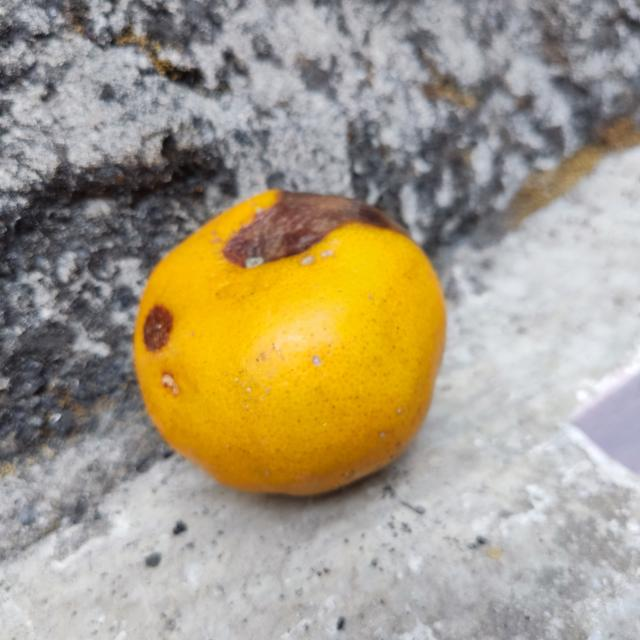orange: (130, 190, 447, 501)
